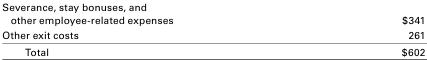table: (1, 0, 424, 57)
table column: (1, 0, 286, 57), (286, 0, 424, 57)
table row: (1, 0, 424, 27), (1, 27, 424, 42), (1, 42, 424, 57)
